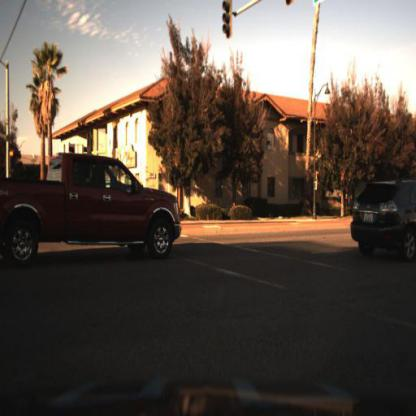car: (1, 142, 190, 264)
